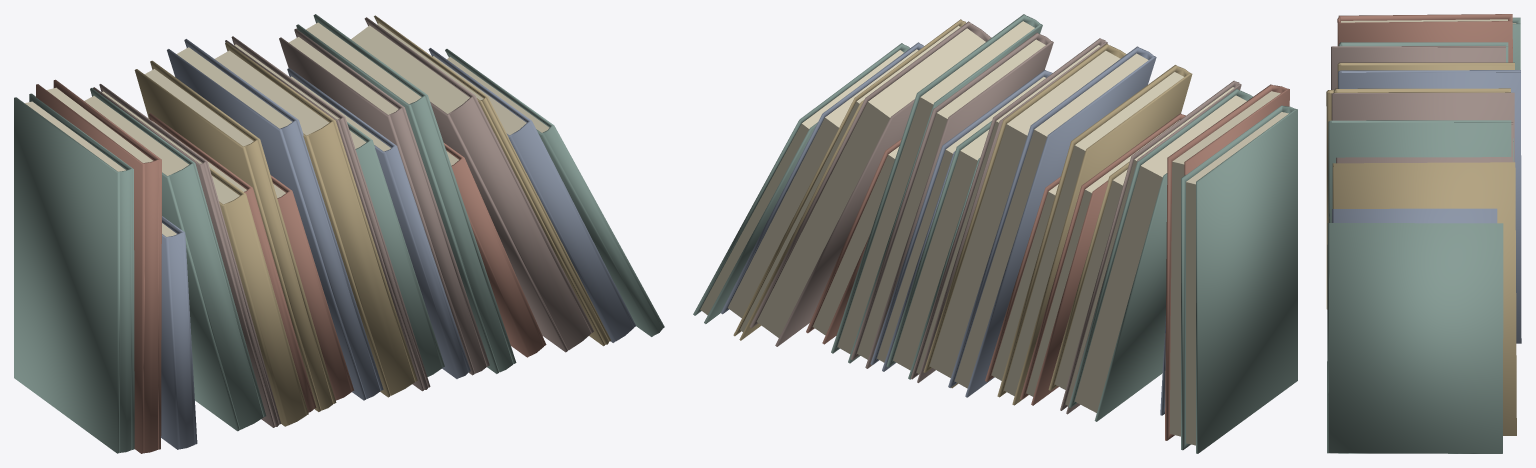
Rendered from books.glb.
The picture shows the model from 3 angles, left to right: view 1: azimuth 30°, elevation 25°; view 2: azimuth 150°, elevation 25°; view 3: azimuth 270°, elevation 25°; orthographic projection. The views are drawn at different scales.
Visible parts, largest first — view 1: books; view 2: books; view 3: books.
Boxes of the visible parts, box(x1,y1,x2,y2) form: books: box(14, 14, 664, 453); books: box(693, 14, 1297, 453); books: box(1326, 14, 1521, 453).
Bounding box in the file's own units: 0.9 × 0.4812 × 0.3494.
